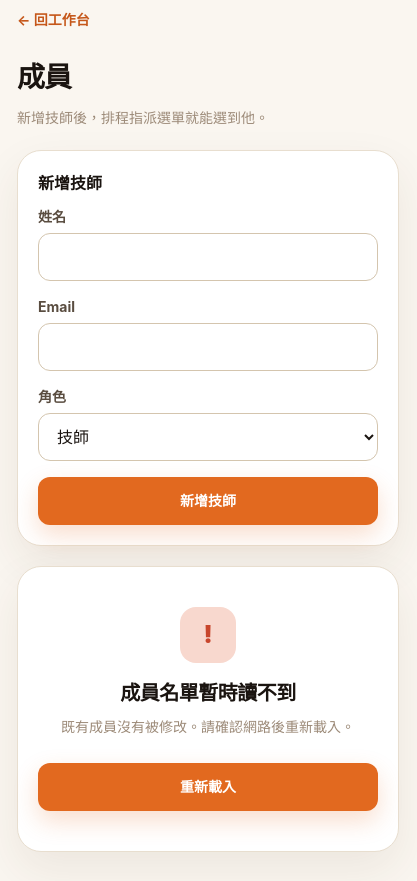
Test: TeamManagement › shows an error state and retries the load
(page scrolled)
expect the message shows "讀不到": met, box left=38, top=606, right=378, bottom=738
Click the button "重新載入": click(208, 786) left=38, top=762, right=378, bottom=810
(page scrolled)
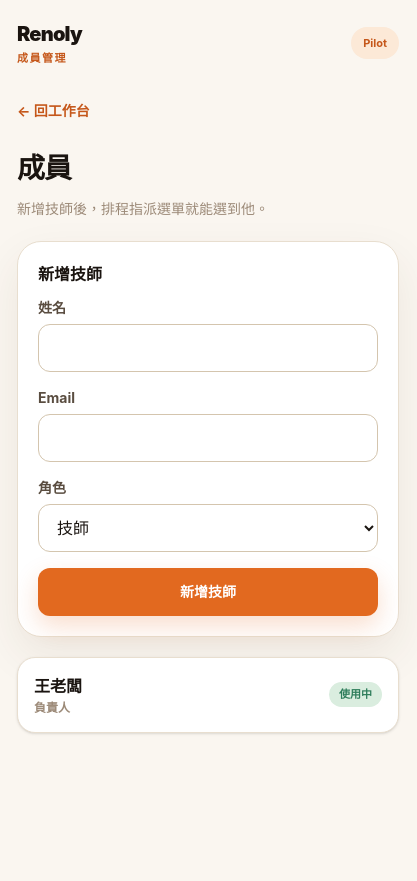
expect the text "王老闆" is shown: met, box left=34, top=674, right=82, bottom=698
